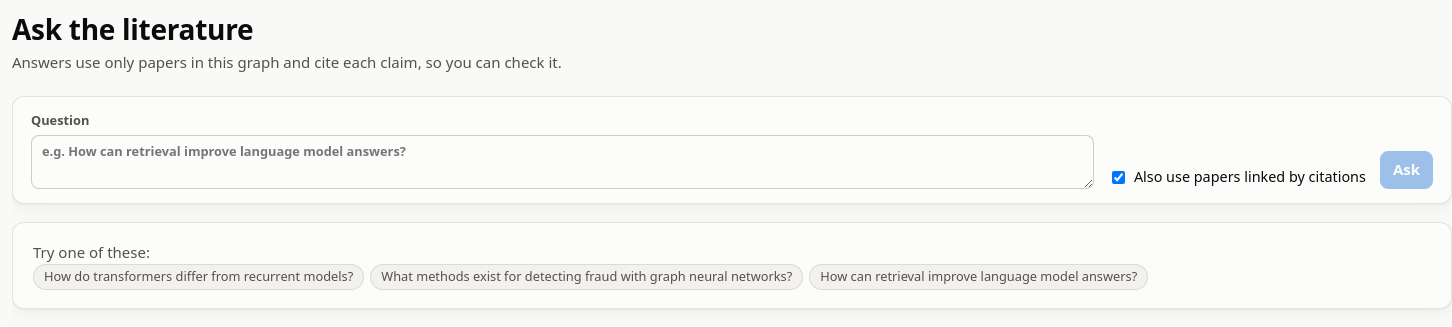
Test: AskPage › shows API errors such as an unavailable LLM
Type "What is attention?" into the text box labelled "Question". click: (562, 162)
box: [31,135,1094,189]
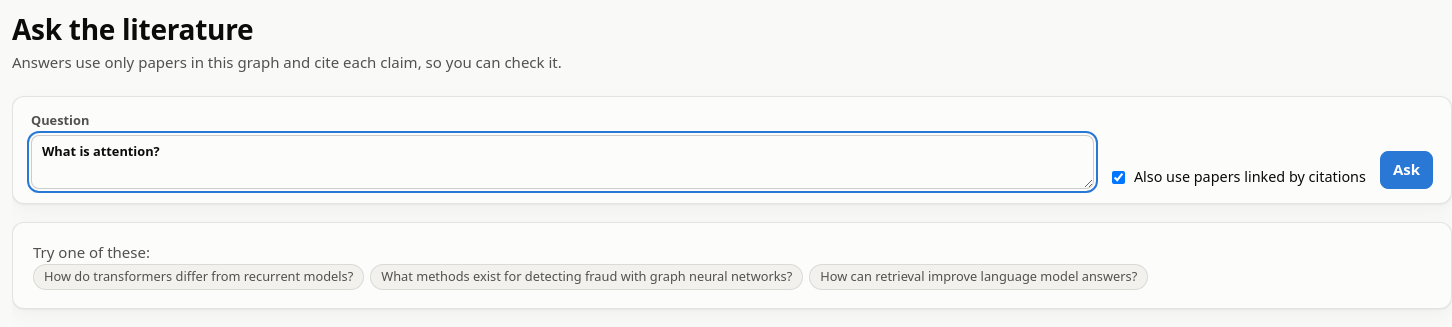
Click the button "Ask". click: click(1406, 170)
box: [1380,152,1433,189]
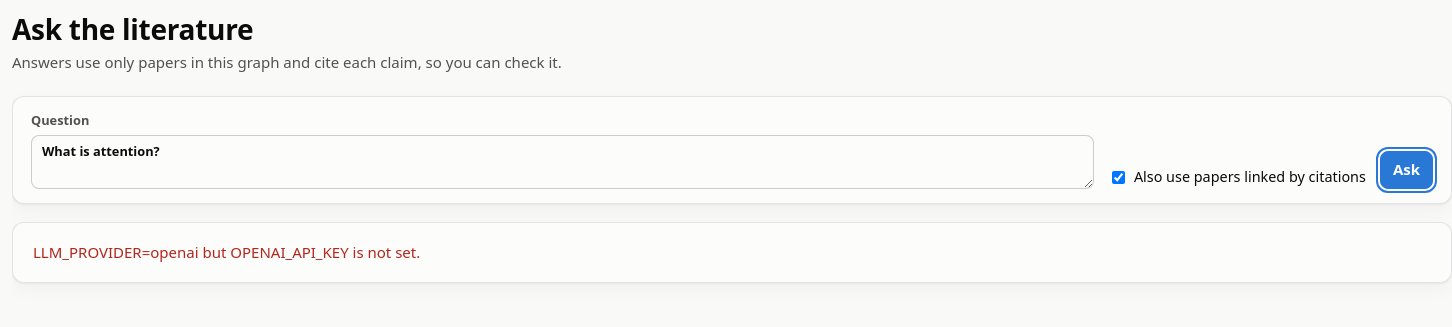
Expected: the text "LLM_PROVIDER=openai but OPENAI_API_KEY is not set." is shown, [33,242,420,262]
